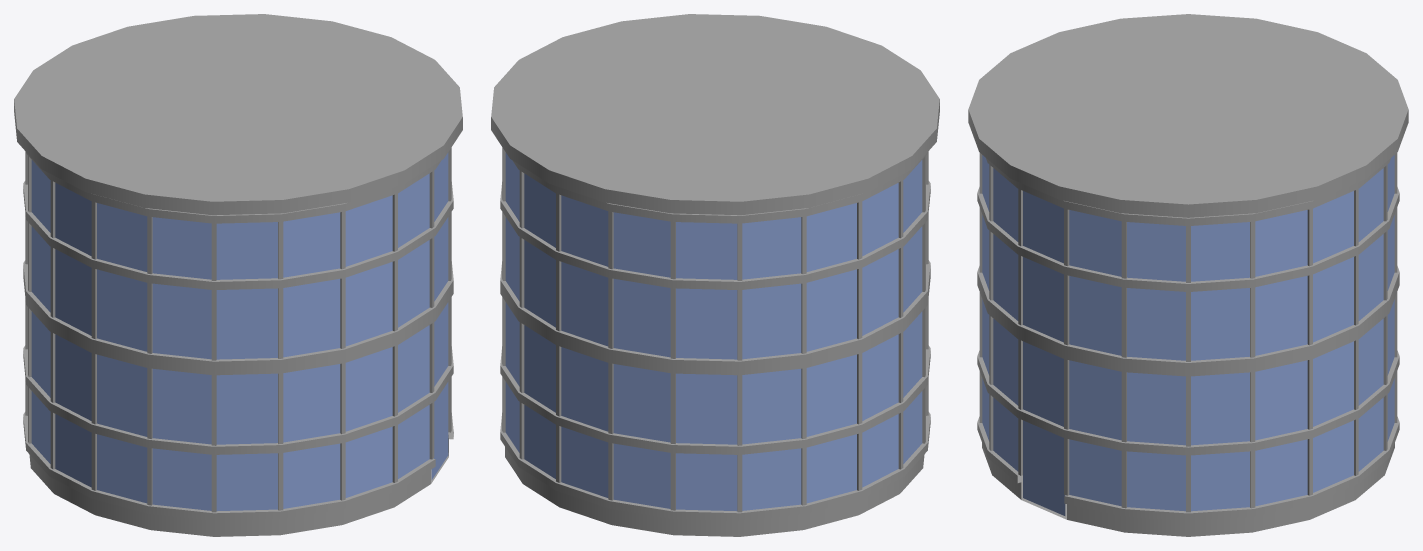
The model's file is Tower3.fbx.
3 views of the same model, side by side, from view 1: azimuth 30°, elevation 25°; view 2: azimuth 150°, elevation 25°; view 3: azimuth 270°, elevation 25° (orthographic).
Parts seen in each view (by area): view 1: Tower3; view 2: Tower3; view 3: Tower3.
Part boxes in pixels (<box>): Tower3: <box>14,14,462,536</box>; Tower3: <box>491,14,939,536</box>; Tower3: <box>968,14,1408,536</box>.
Size of the model in its own units: 363 by 300 by 354.
